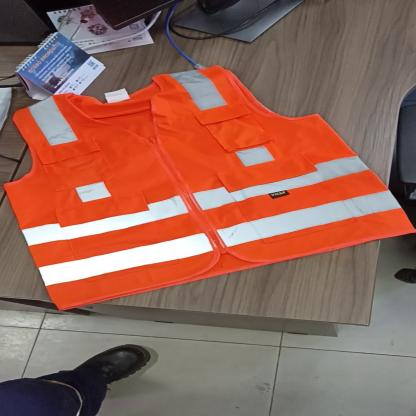colete: (0, 66, 416, 314)
